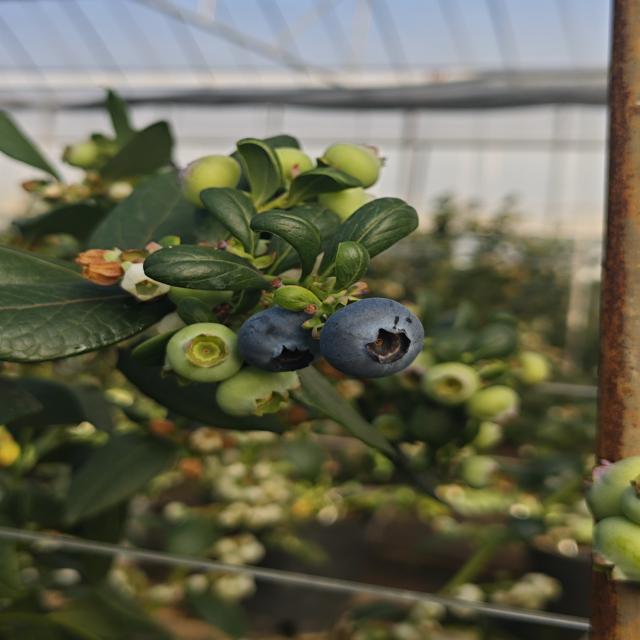ripe: (317, 296, 427, 380), (236, 303, 322, 375)
